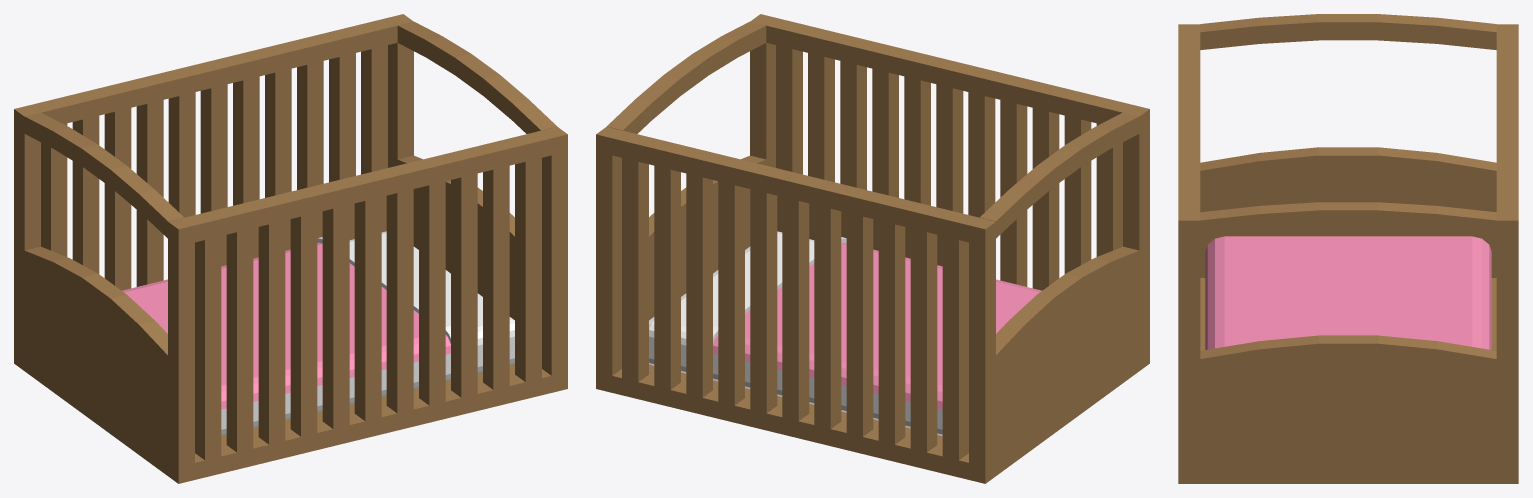
File: Baby Bed.fbx
3 views of the same model, side by side, from view 1: azimuth 30°, elevation 25°; view 2: azimuth 150°, elevation 25°; view 3: azimuth 270°, elevation 25° (orthographic). The views are drawn at different scales.
Visible parts, largest first — view 1: Baby Bed; view 2: Baby Bed; view 3: Baby Bed.
Boxes of the visible parts, x1,y1,x2,y2 form: Baby Bed: (14,14,567,483); Baby Bed: (596,14,1149,483); Baby Bed: (1178,14,1518,483).
Bounding box in the file's own units: 0.8478 × 0.5505 × 0.6202.
